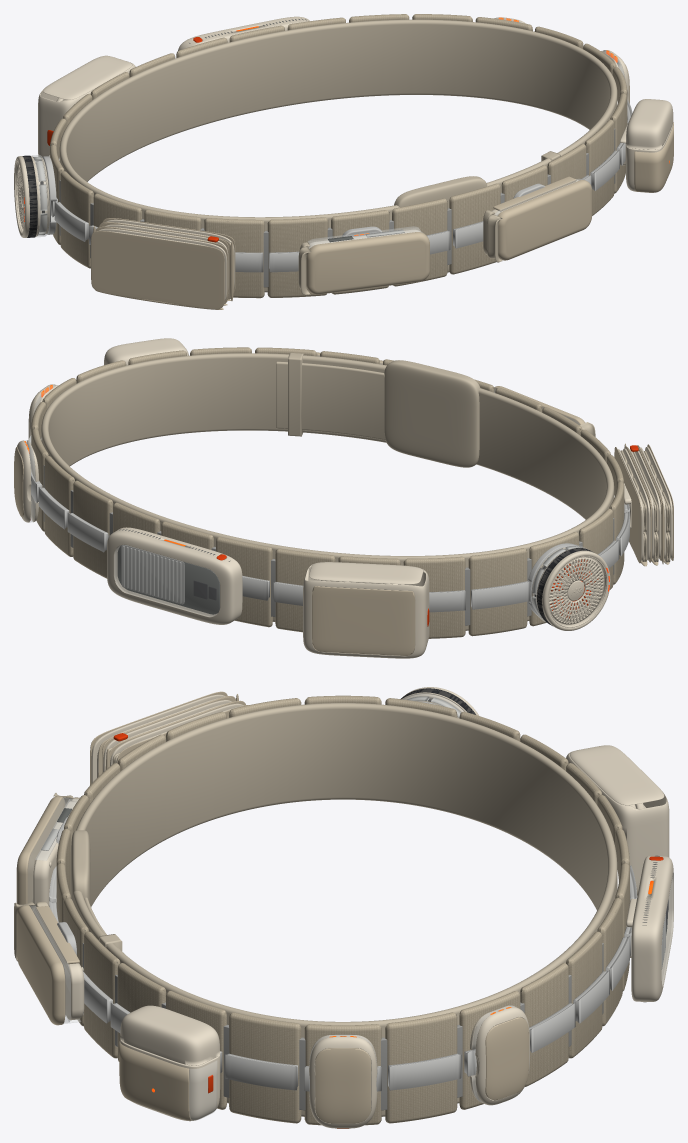
The model's file is belt.glb.
The picture shows the model from 3 angles, top to bottom: view 1: azimuth 30°, elevation 25°; view 2: azimuth 150°, elevation 25°; view 3: azimuth 270°, elevation 25°; orthographic projection. The views are drawn at different scales.
Visible parts, largest first — view 1: still, piece-153, piece-169, piece-16, piece-36, piece-106, piece-163, piece-124, piece-05, piece-159, piece-182, piece-139 (+16 smaller); view 2: still, piece-106, piece-84, piece-124, piece-153, piece-117, piece-110, piece-93, piece-73, piece-97, piece-61, piece-68 (+14 smaller); view 3: still, piece-36, piece-106, piece-16, piece-47, piece-42, piece-54, piece-84, piece-61, piece-153, piece-169, piece-68 (+16 smaller).
Boxes of the visible parts, x1,y1,x2,y2 form: still: (59, 19, 617, 292); piece-153: (91, 218, 235, 309); piece-169: (298, 226, 429, 295); piece-16: (483, 176, 591, 262); piece-36: (620, 99, 673, 192); piece-106: (38, 55, 135, 157); piece-163: (267, 217, 328, 297); piece-124: (14, 155, 49, 237); piece-05: (449, 183, 500, 274); piece-159: (204, 218, 264, 298); piece-182: (392, 198, 447, 286); piece-139: (60, 171, 93, 268); still: (40, 353, 614, 630); piece-106: (303, 562, 429, 658); piece-84: (107, 527, 242, 624); piece-124: (530, 545, 610, 630); piece-153: (614, 443, 673, 566); piece-117: (468, 548, 527, 636); piece-110: (403, 556, 465, 638); piece-93: (216, 537, 272, 627); piece-73: (73, 480, 113, 578); piece-97: (275, 548, 335, 632); piece-61: (14, 440, 38, 522); piece-68: (44, 456, 74, 556); still: (70, 703, 618, 1116); piece-36: (119, 1005, 220, 1121); piece-106: (566, 745, 669, 895); piece-16: (14, 901, 84, 1025); piece-47: (309, 1035, 377, 1128); piece-42: (229, 1012, 301, 1123); piece-54: (385, 1012, 457, 1123); piece-84: (626, 855, 673, 1002); piece-61: (470, 1005, 529, 1105); piece-153: (90, 691, 248, 784); piece-169: (16, 793, 79, 908); piece-68: (520, 963, 568, 1086).
Bounding box in the file's own units: 0.3729 × 0.054 × 0.2881.
Materials: 66 (1 with a texture image).
